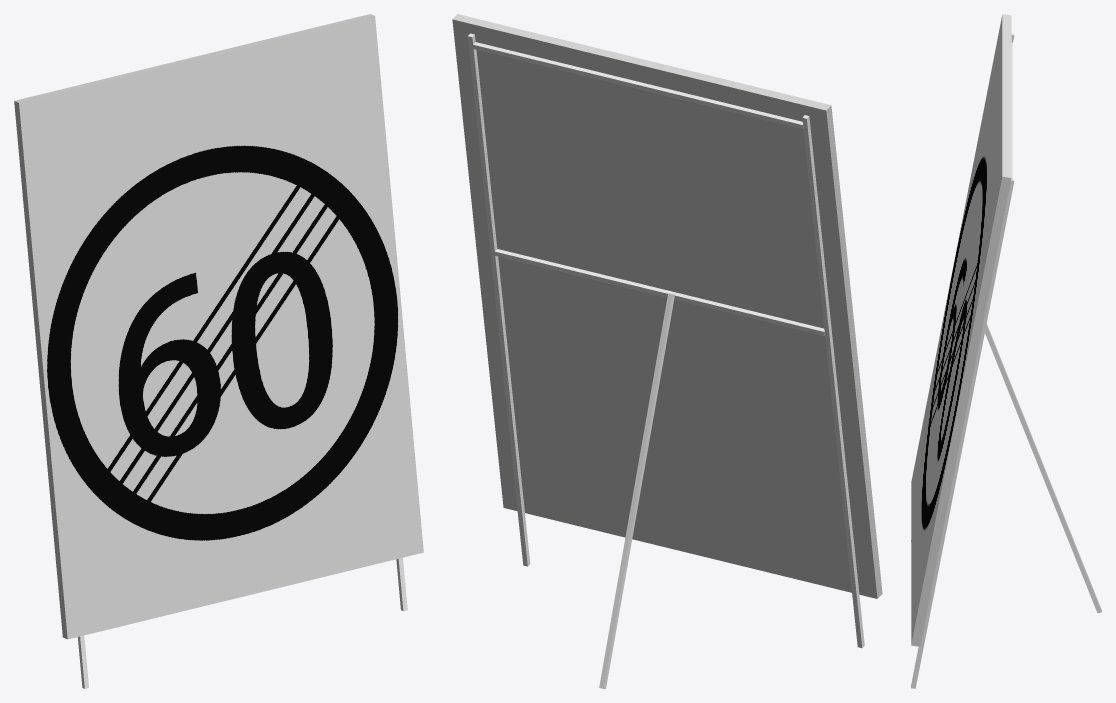
The model's file is 解除限速-B.glb.
3 views of the same model, side by side, from view 1: azimuth 30°, elevation 25°; view 2: azimuth 150°, elevation 25°; view 3: azimuth 270°, elevation 25° (orthographic). The views are drawn at different scales.
Visible parts, largest first — view 1: 立方体-材质.3, 立方体-材质.5; view 2: 立方体-材质.5, 立方体.4, 立方体.3, 立方体.7, 立方体.5, 立方体.6; view 3: 立方体-材质.3, 立方体-材质.5, 立方体.3, 立方体.7.
Boxes of the visible parts, bbox=[...] form: 立方体-材质.3: bbox=[19, 16, 423, 639]; 立方体-材质.5: bbox=[14, 14, 374, 639]; 立方体-材质.5: bbox=[452, 14, 882, 598]; 立方体.4: bbox=[802, 115, 864, 647]; 立方体.3: bbox=[468, 33, 530, 566]; 立方体.7: bbox=[599, 293, 674, 688]; 立方体.5: bbox=[469, 42, 803, 129]; 立方体.6: bbox=[491, 249, 824, 336]; 立方体-材质.3: bbox=[911, 15, 1002, 643]; 立方体-材质.5: bbox=[911, 14, 1011, 646]; 立方体.3: bbox=[911, 178, 1014, 688]; 立方体.7: bbox=[985, 323, 1101, 613].
Size of the model in its own units: 5.71 by 8.56 by 2.83.
Materials: 3 (1 with a texture image).
